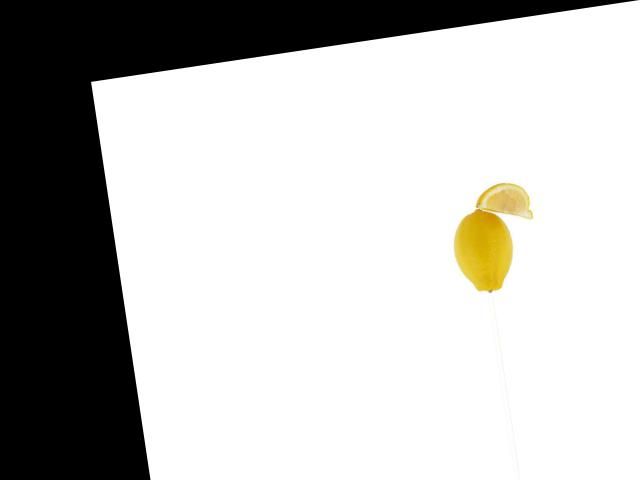lemon: (445, 201, 523, 298)
